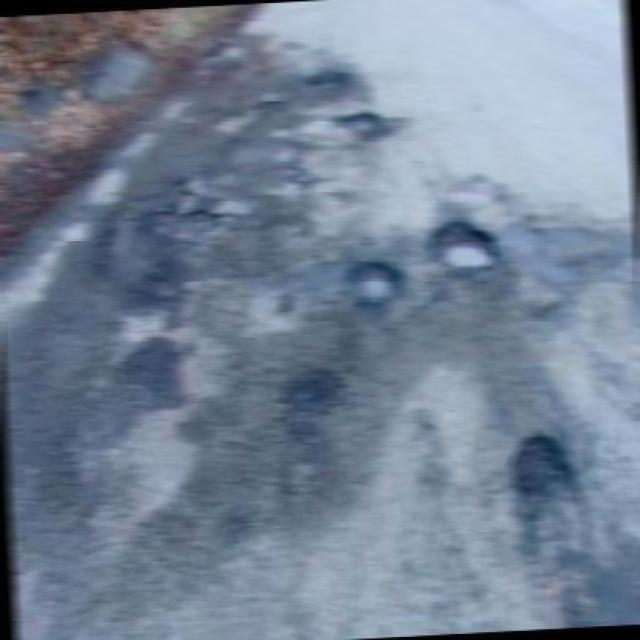Pothole: (148, 189, 239, 259), (504, 426, 584, 500), (421, 210, 505, 274), (269, 361, 349, 418), (211, 95, 291, 148), (340, 256, 404, 316), (332, 105, 400, 140), (308, 66, 356, 98)
